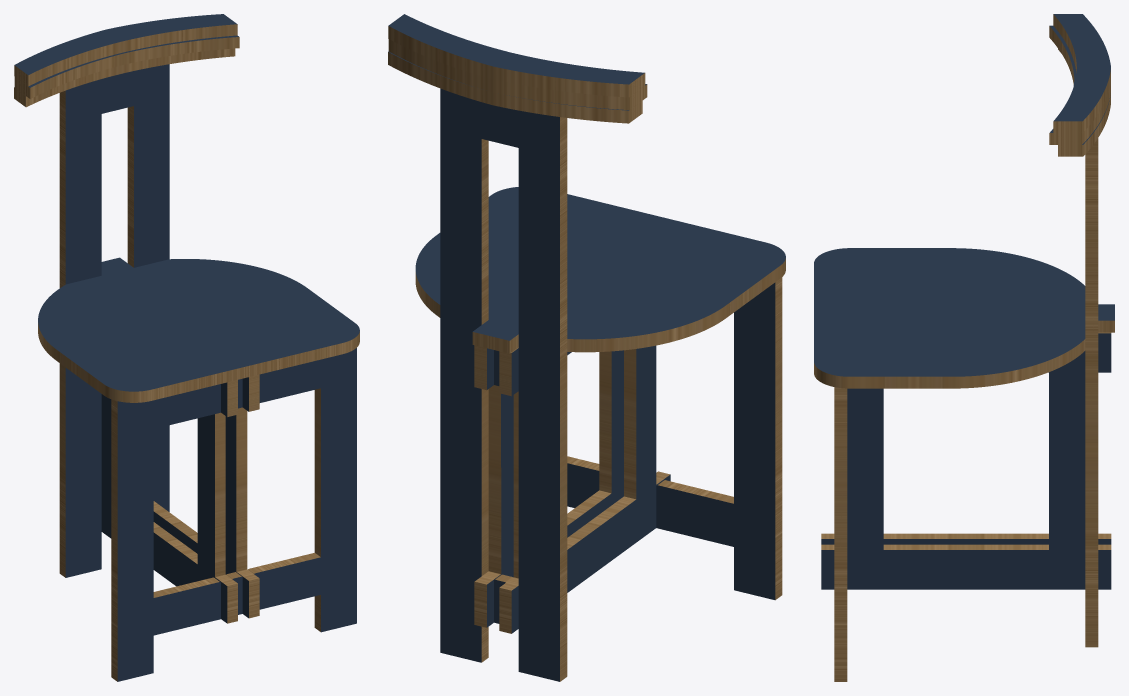
Rendered from NODO_SILLA_COUNTRY_CUARZO_V2_RESPALDO_CORREGIDO.glb.
3 renders of one model, left to right at view 1: azimuth 30°, elevation 25°; view 2: azimuth 150°, elevation 25°; view 3: azimuth 270°, elevation 25°, orthographic. The views are drawn at different scales.
Parts seen in each view (by area): view 1: Frente, Asiento, Pata_respaldo, Central_1, Central_2, Travesano_3, Travesano_2, Travesano_1; view 2: Pata_respaldo, Asiento, Frente, Central_1, Central_2, Travesano_3, Travesano_1, Travesano_2; view 3: Asiento, Central_2, Pata_respaldo, Travesano_3, Frente, Central_1, Travesano_2, Travesano_1.
Boxes of the visible parts, left/top/right/bottom form: Frente: left=111, top=348, right=356, bottom=681; Asiento: left=38, top=257, right=359, bottom=402; Pata_respaldo: left=59, top=64, right=169, bottom=577; Central_1: left=101, top=380, right=237, bottom=623; Central_2: left=153, top=374, right=259, bottom=618; Travesano_3: left=14, top=14, right=237, bottom=86; Travesano_2: left=14, top=35, right=239, bottom=98; Travesano_1: left=14, top=48, right=235, bottom=107; Pata_respaldo: left=440, top=88, right=567, bottom=681; Asiento: left=415, top=187, right=785, bottom=353; Frente: left=567, top=277, right=782, bottom=600; Central_1: left=499, top=345, right=670, bottom=633; Central_2: left=474, top=345, right=623, bottom=627; Travesano_3: left=388, top=14, right=645, bottom=97; Travesano_1: left=388, top=51, right=642, bottom=123; Travesano_2: left=388, top=39, right=647, bottom=109; Asiento: left=814, top=248, right=1114, bottom=388; Central_2: left=821, top=332, right=1111, bottom=589; Pata_respaldo: left=1085, top=138, right=1098, bottom=647; Travesano_3: left=1053, top=14, right=1110, bottom=132; Frente: left=834, top=387, right=847, bottom=681; Central_1: left=821, top=533, right=1111, bottom=544; Travesano_2: left=1049, top=25, right=1110, bottom=144; Travesano_1: left=1058, top=49, right=1110, bottom=156.
Bounding box in the file's own units: 0.42 × 0.8415 × 0.415.
Materials: 2 (2 with a texture image).
